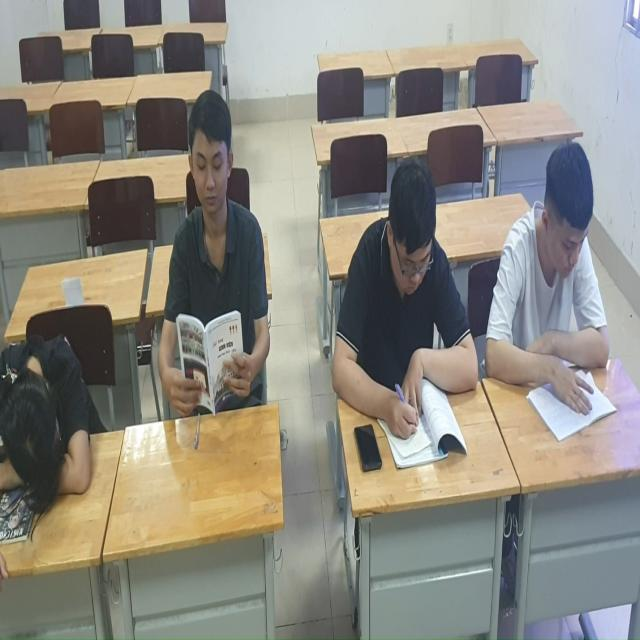read: (323, 140, 491, 491), (155, 106, 279, 470), (498, 139, 616, 446)
sleep: (1, 295, 101, 524)
